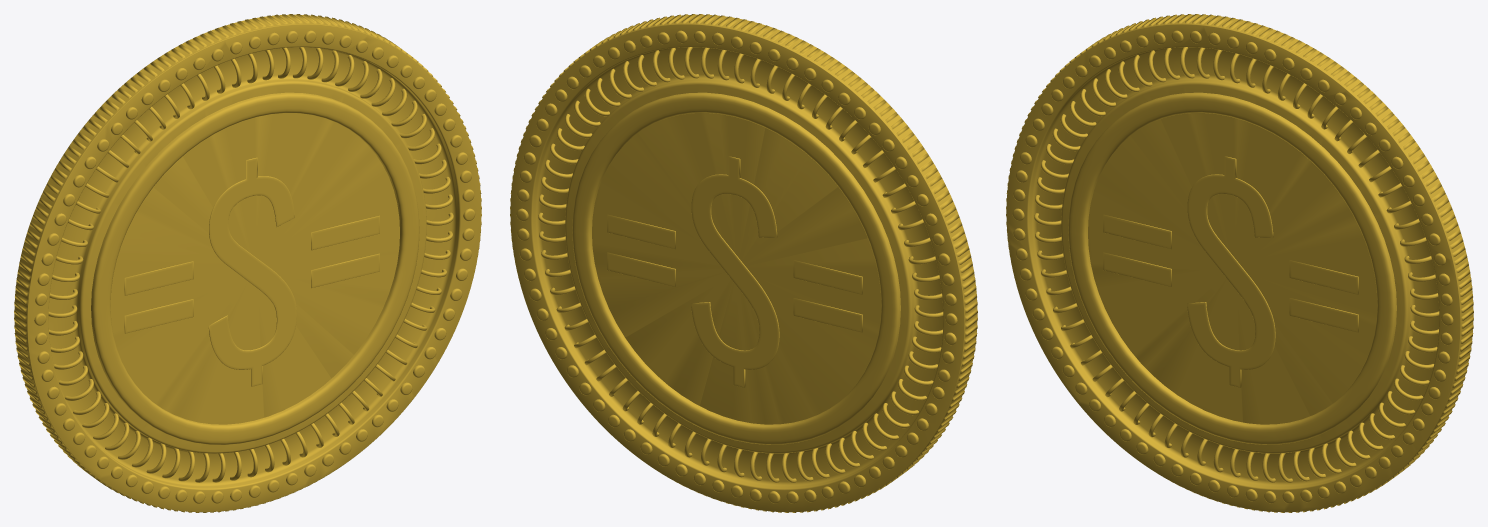
The model's file is dollarCoin.glb.
3 renders of one model, left to right at view 1: azimuth 30°, elevation 25°; view 2: azimuth 150°, elevation 25°; view 3: azimuth 330°, elevation 25°, orthographic.
Size of the model in its own units: 0.4025 by 0.4025 by 0.0297.
